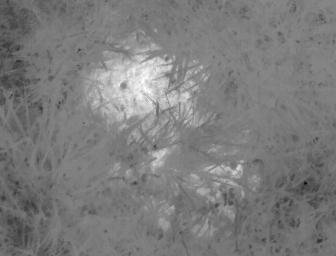landmine: (85, 35, 215, 135)
